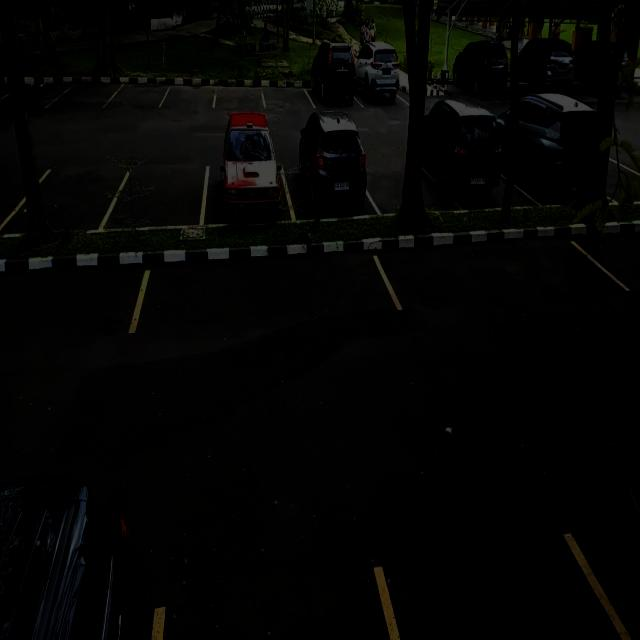empty: (382, 538, 626, 638), (139, 249, 391, 333), (156, 563, 400, 636), (380, 239, 600, 316), (0, 258, 141, 341), (113, 163, 205, 231), (25, 166, 115, 235), (602, 226, 640, 294), (56, 73, 114, 106), (113, 76, 166, 110), (165, 78, 217, 110), (262, 74, 310, 107), (0, 166, 22, 238), (215, 83, 265, 112)
occupied: (426, 114, 503, 214), (519, 106, 596, 206), (292, 132, 372, 222), (205, 142, 286, 226), (358, 49, 403, 107), (312, 58, 358, 109)
